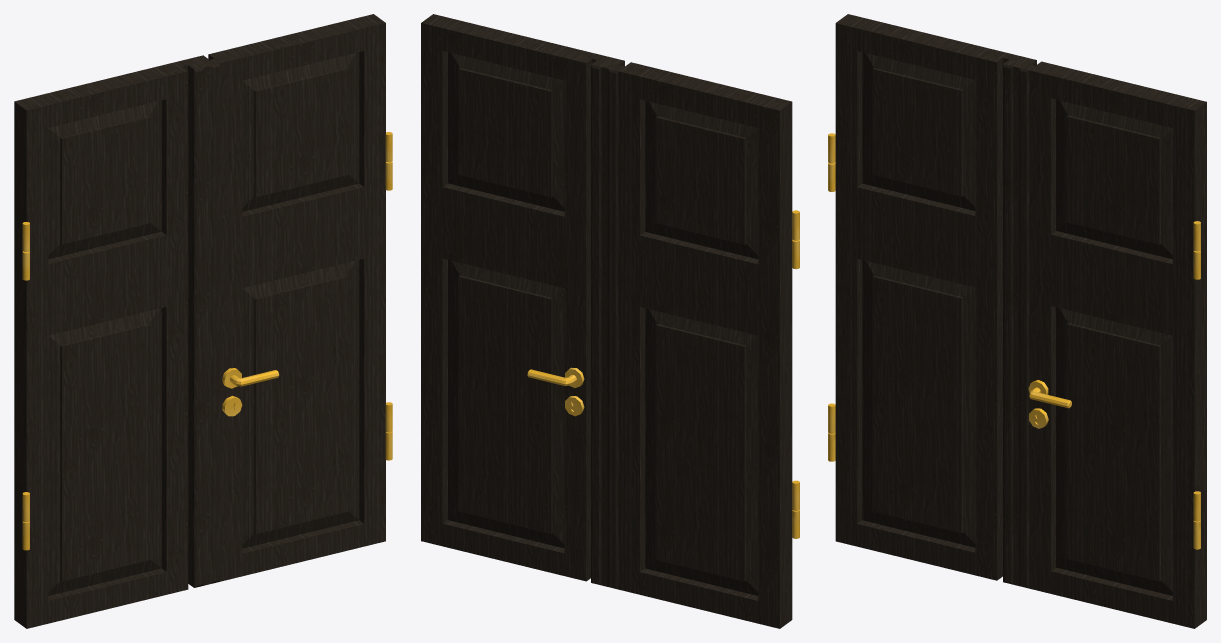
The model's file is doors.FBX.
3 views of the same model, side by side, from view 1: azimuth 30°, elevation 25°; view 2: azimuth 150°, elevation 25°; view 3: azimuth 330°, elevation 25° (orthographic).
Parts seen in each view (by area): view 1: fluegeltuer_rechts, fluegeltuer_links; view 2: fluegeltuer_links, fluegeltuer_rechts; view 3: fluegeltuer_rechts, fluegeltuer_links.
Part boxes in pixels (bbox=[...]): fluegeltuer_rechts: bbox=[188, 14, 392, 587]; fluegeltuer_links: bbox=[14, 55, 209, 628]; fluegeltuer_links: bbox=[591, 60, 799, 628]; fluegeltuer_rechts: bbox=[421, 14, 624, 581]; fluegeltuer_rechts: bbox=[1003, 59, 1206, 628]; fluegeltuer_links: bbox=[828, 14, 1036, 580].
Bounding box in the file's own units: 175 × 234 × 26.54.
